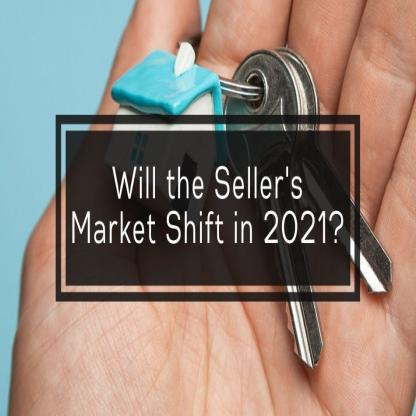keys: (224, 47, 386, 356)
